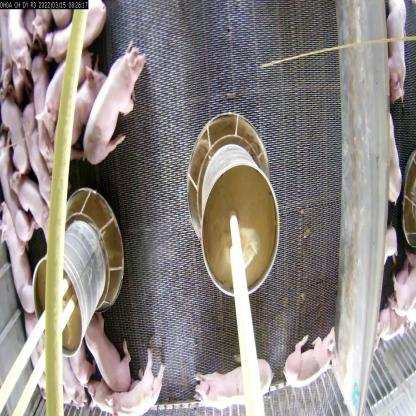Pig: (81, 43, 147, 171), (192, 350, 280, 410), (41, 49, 94, 141), (78, 304, 130, 394), (111, 346, 177, 416), (0, 199, 40, 313), (29, 50, 65, 174), (277, 323, 336, 392), (44, 6, 106, 69), (57, 66, 104, 146), (384, 3, 416, 117), (22, 107, 56, 214), (7, 168, 49, 237)
